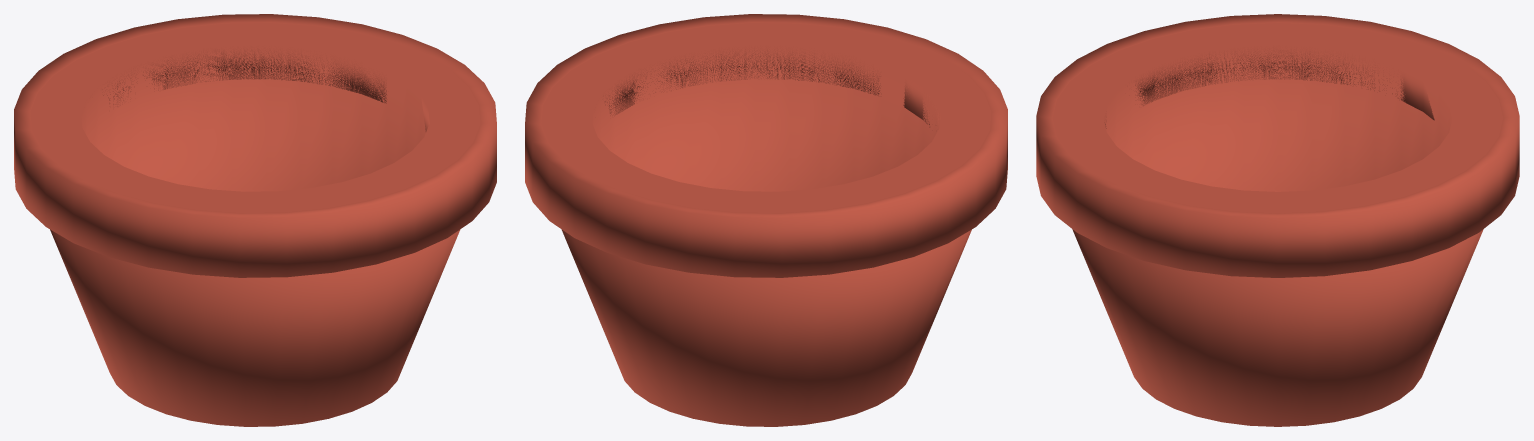
File: MacetaPrimavera1.fbx
3 renders of one model, left to right at view 1: azimuth 30°, elevation 25°; view 2: azimuth 150°, elevation 25°; view 3: azimuth 270°, elevation 25°, orthographic.
Parts seen in each view (by area): view 1: Circle.021; view 2: Circle.021; view 3: Circle.021.
Boxes of the visible parts, bbox=[...] form: Circle.021: bbox=[14, 14, 496, 426]; Circle.021: bbox=[525, 14, 1007, 426]; Circle.021: bbox=[1036, 14, 1519, 426].
Size of the model in its own units: 32.25 by 18.31 by 32.25.
